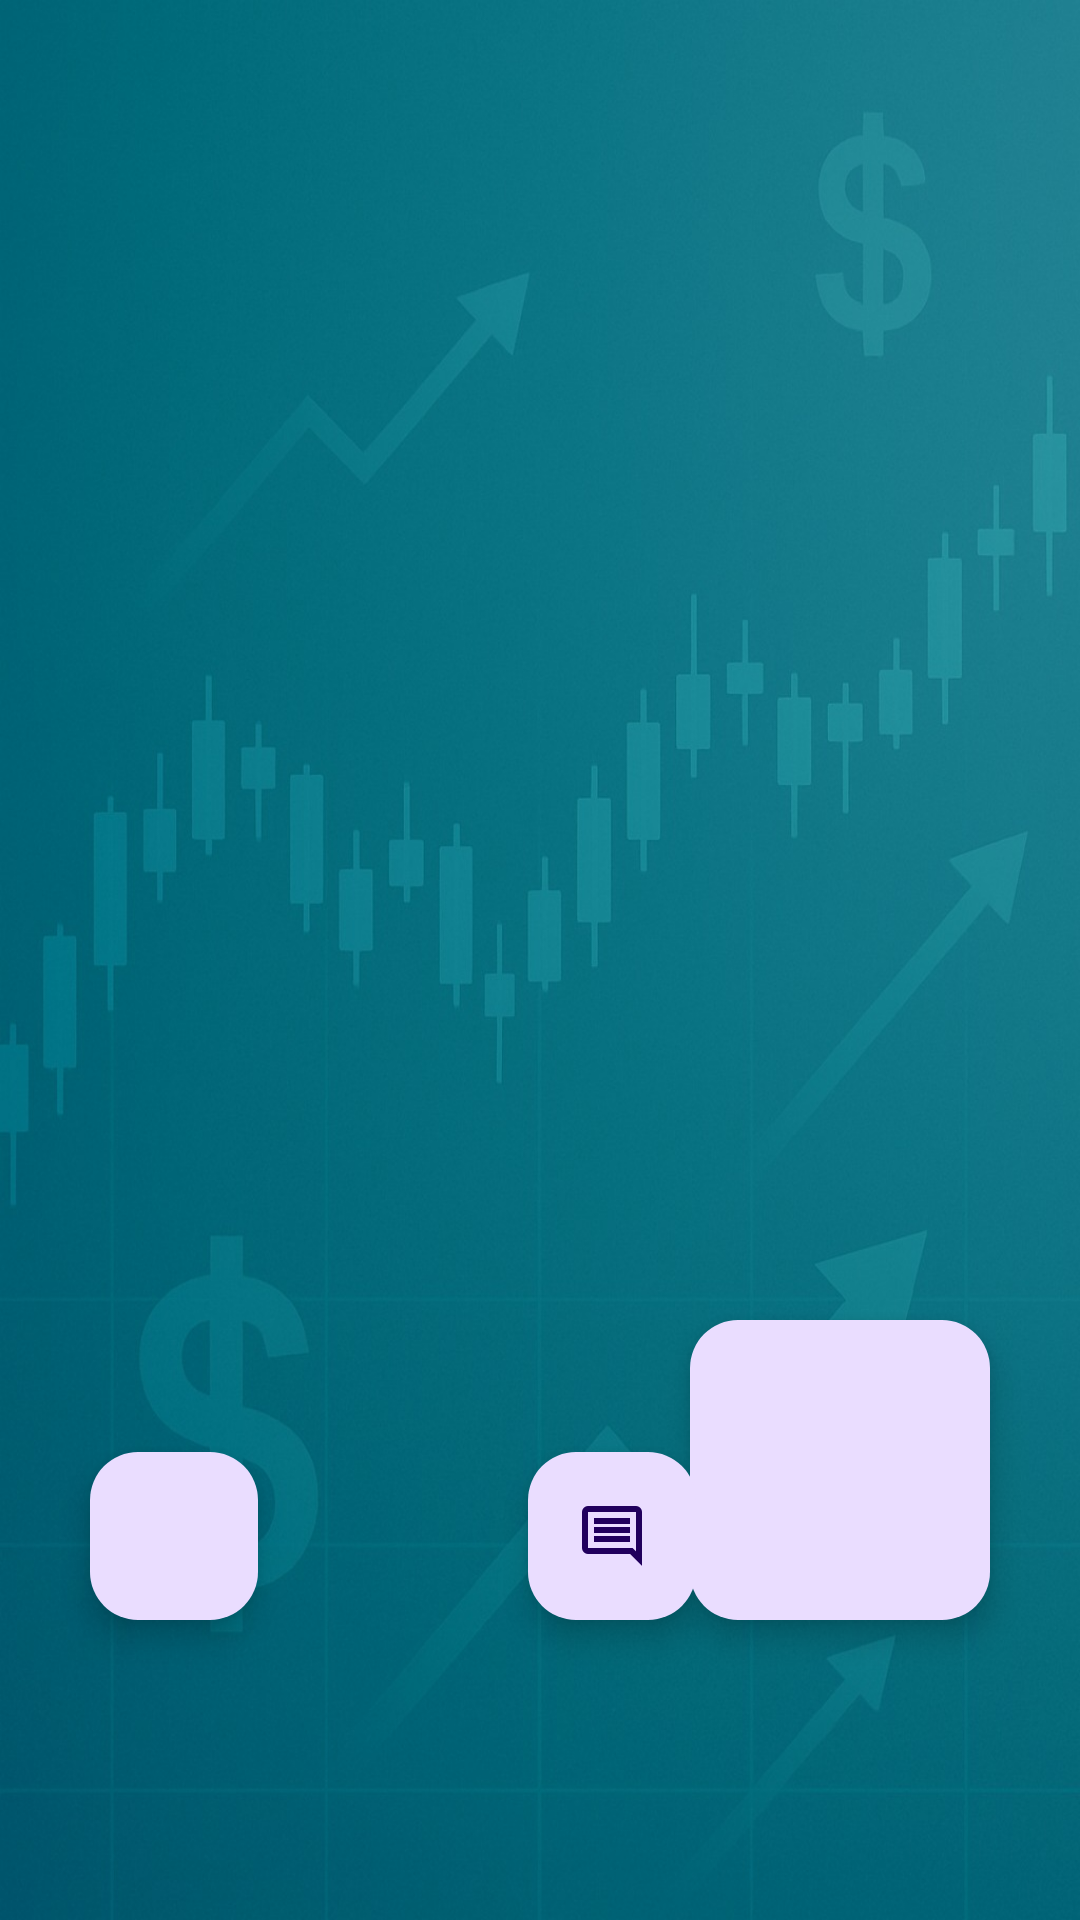

Icon click points for this 1080 × 1920 phone screenshot, format (x,y):
comment: (612,1536)
